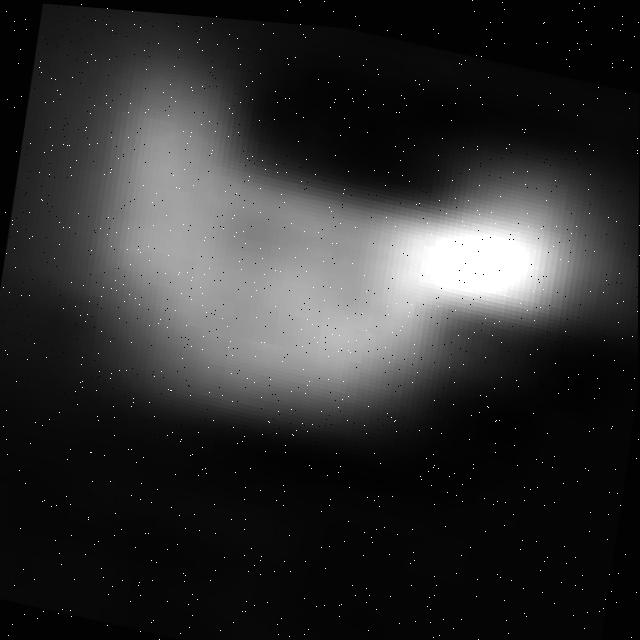person: (63, 17, 640, 503)
